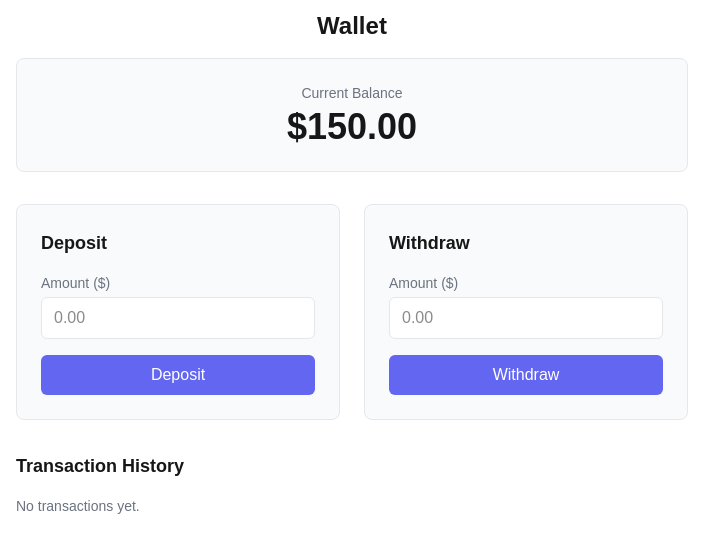
it: WalletPage › shows deposit error from API
Type "10000" into the 1st number field labelled "Amount ($)".
click(178, 318); type("10000")  # box [41,297,315,339]
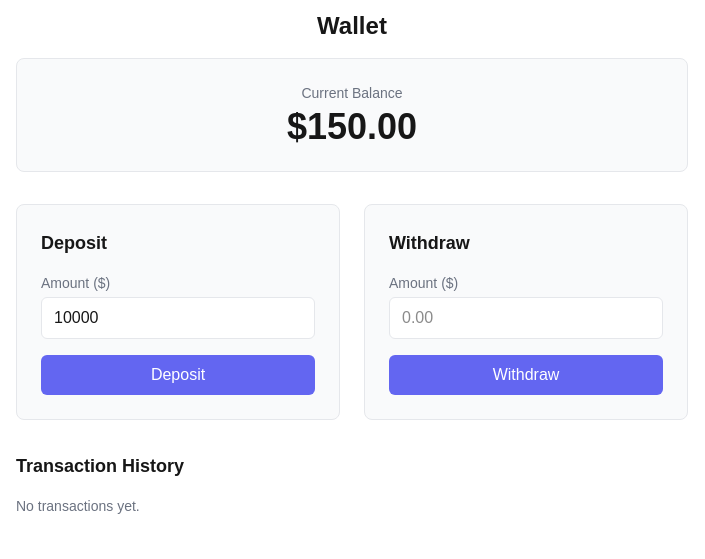
Click the button "Deposit".
click(178, 375)  # box [41,355,315,395]
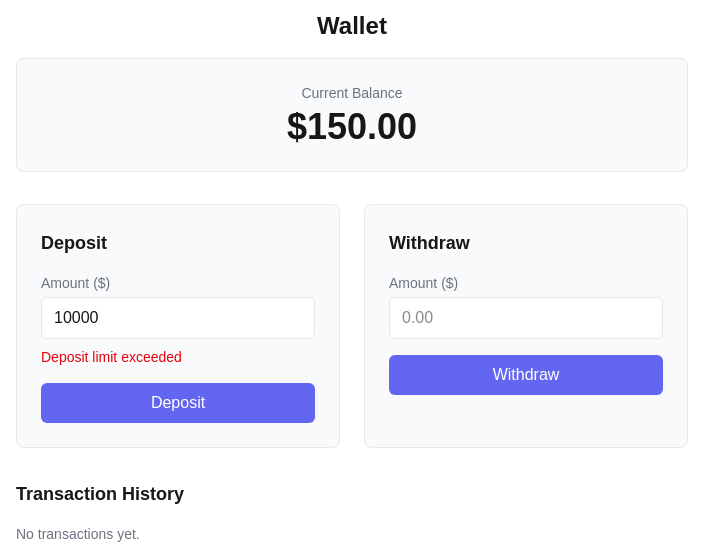
Check: the text "Deposit limit exceeded" is shown, box [41,349,182,365]
